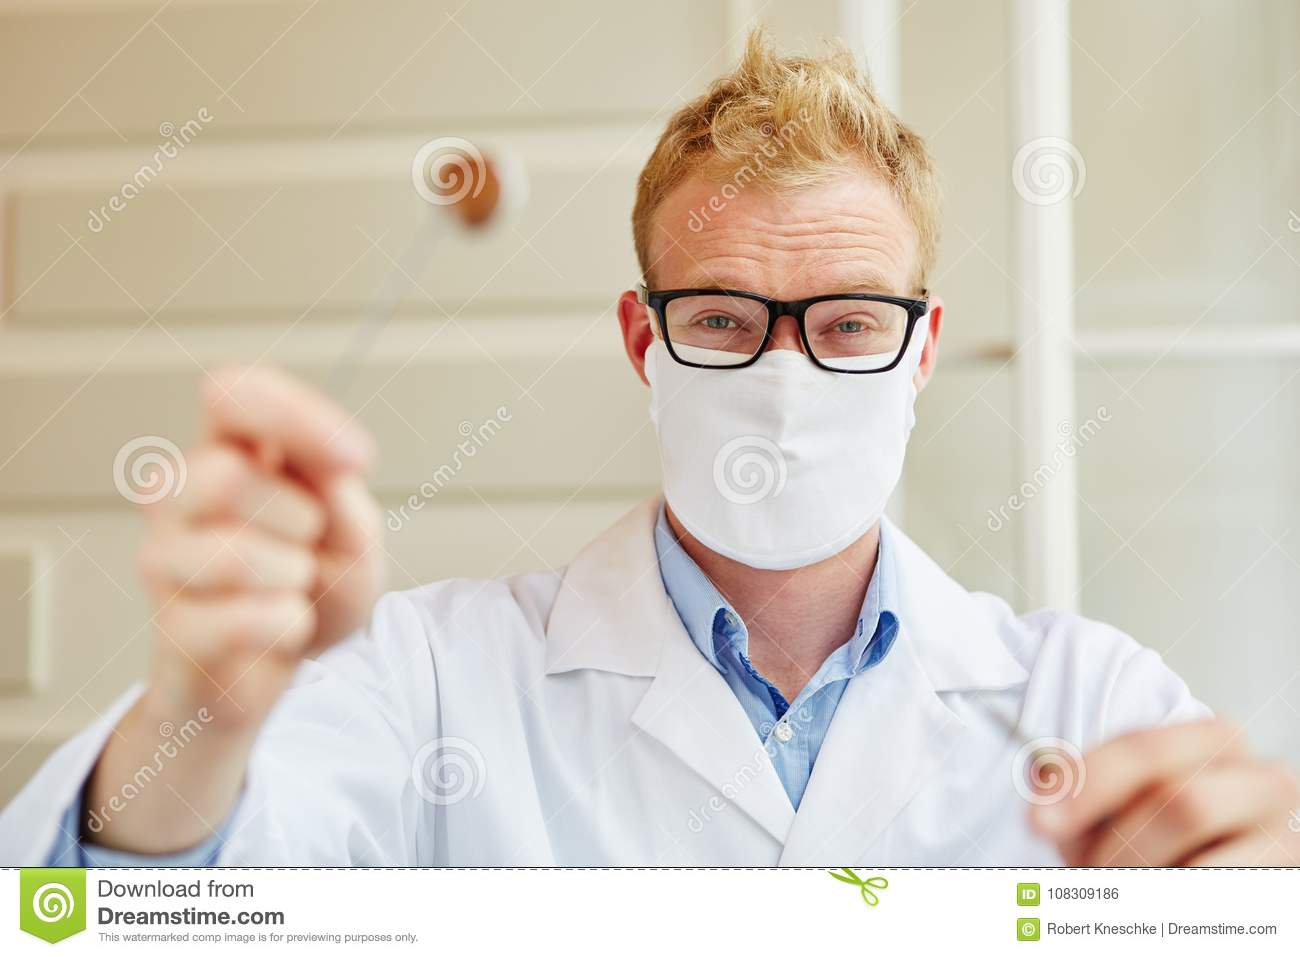mask: (638, 335, 926, 579)
